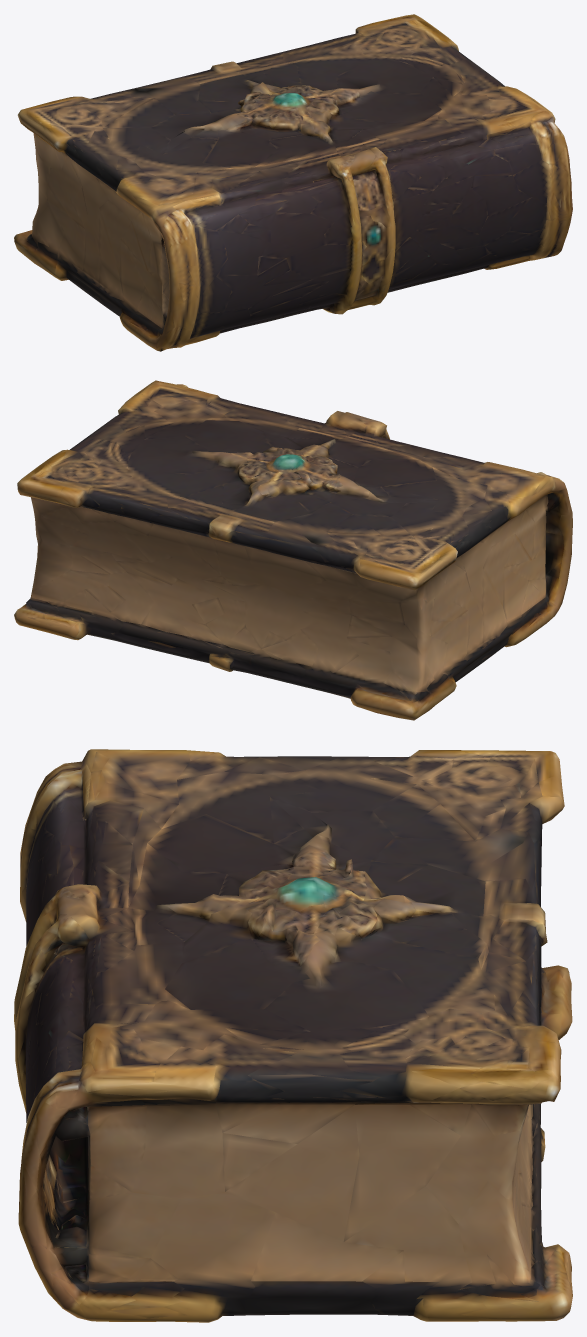
File: shadow_book.obj
3 views of the same model, one above another, from view 1: azimuth 30°, elevation 25°; view 2: azimuth 150°, elevation 25°; view 3: azimuth 270°, elevation 25° (orthographic). The views are drawn at different scales.
Visible parts, largest first — view 1: An_old_evil_book_clo_0922024928_texture; view 2: An_old_evil_book_clo_0922024928_texture; view 3: An_old_evil_book_clo_0922024928_texture.
Boxes of the visible parts, bbox=[...] form: An_old_evil_book_clo_0922024928_texture: bbox=[14, 14, 572, 351]; An_old_evil_book_clo_0922024928_texture: bbox=[14, 380, 572, 720]; An_old_evil_book_clo_0922024928_texture: bbox=[14, 749, 572, 1322].
Bounding box in the file's own units: 2.01 × 0.8193 × 1.41.
